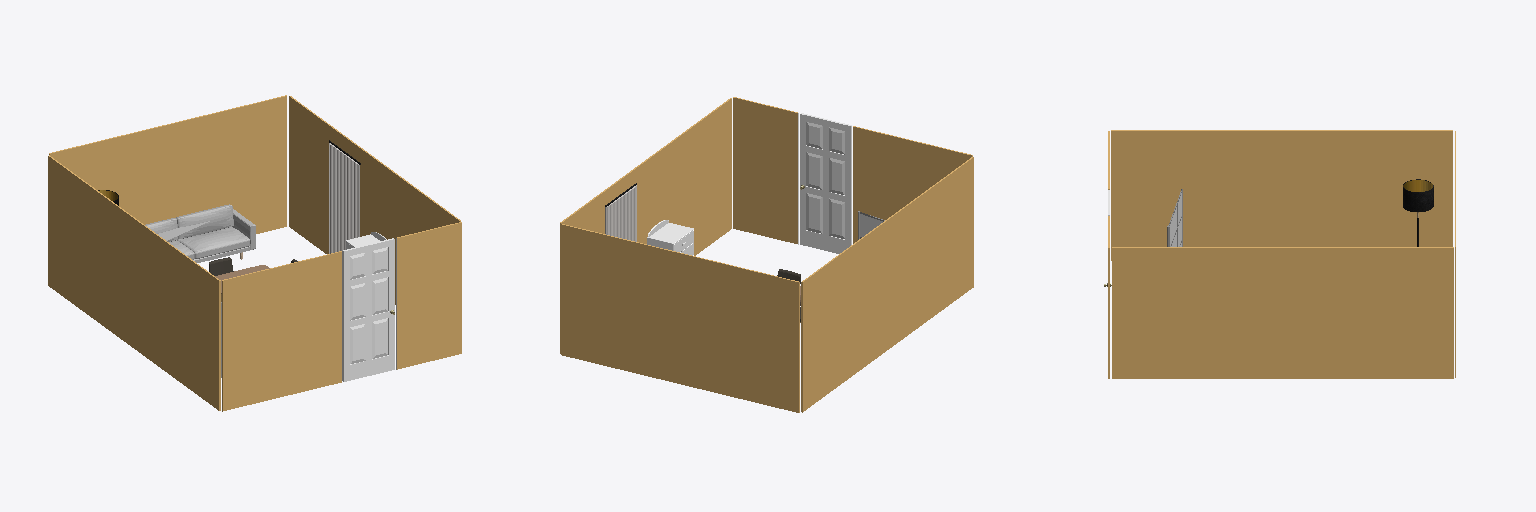
3 renders of one model, left to right at view 1: azimuth 30°, elevation 25°; view 2: azimuth 150°, elevation 25°; view 3: azimuth 270°, elevation 25°, orthographic.
Visible parts, largest first — view 1: Mesh185 Model, Mesh186 Model, Mesh184 Model, Mesh188 Model, Mesh187 Model, Mesh12 door1 Model, Mesh81 Group_19_1 Component_11_1 Model, Mesh4 Group5 Hiroshima_Sofa1 Model, Mesh6 Group7 Hiroshima_Sofa1 Model, Mesh2 Group2 Hiroshima_Sofa1 Model; view 2: Mesh186 Model, Mesh185 Model, Mesh188 Model, Mesh187 Model, Mesh184 Model, Mesh12 door1 Model, Mesh81 Group_19_1 Component_11_1 Model, Mesh53 blat1 G_2_Komoda_60_1 Model; view 3: Mesh188 Model, Mesh185 Model, Mesh20 Component_5_1 Component_10_1 Component_1_1 Model.
Boxes of the visible parts, <box> form: Mesh185 Model: <box>48,155,220,410</box>; Mesh186 Model: <box>49,95,286,233</box>; Mesh184 Model: <box>222,251,341,411</box>; Mesh188 Model: <box>289,96,460,304</box>; Mesh187 Model: <box>396,222,461,369</box>; Mesh12 door1 Model: <box>342,238,394,381</box>; Mesh81 Group_19_1 Component_11_1 Model: <box>329,143,359,253</box>; Mesh4 Group5 Hiroshima_Sofa1 Model: <box>177,227,249,258</box>; Mesh6 Group7 Hiroshima_Sofa1 Model: <box>176,204,233,238</box>; Mesh2 Group2 Hiroshima_Sofa1 Model: <box>158,209,255,262</box>; Mesh186 Model: <box>561,224,799,412</box>; Mesh185 Model: <box>801,157,973,412</box>; Mesh188 Model: <box>560,98,731,353</box>; Mesh187 Model: <box>733,97,798,244</box>; Mesh184 Model: <box>853,126,972,243</box>; Mesh12 door1 Model: <box>800,113,851,253</box>; Mesh81 Group_19_1 Component_11_1 Model: <box>605,185,636,241</box>; Mesh53 blat1 G_2_Komoda_60_1 Model: <box>647,223,693,244</box>; Mesh188 Model: <box>1112,247,1453,378</box>; Mesh185 Model: <box>1111,130,1452,260</box>; Mesh20 Component_5_1 Component_10_1 Component_1_1 Model: <box>1403,179,1433,211</box>.
Size of the model in its own units: 4093 by 2169 by 5156.
Materials: 25 (4 with a texture image).